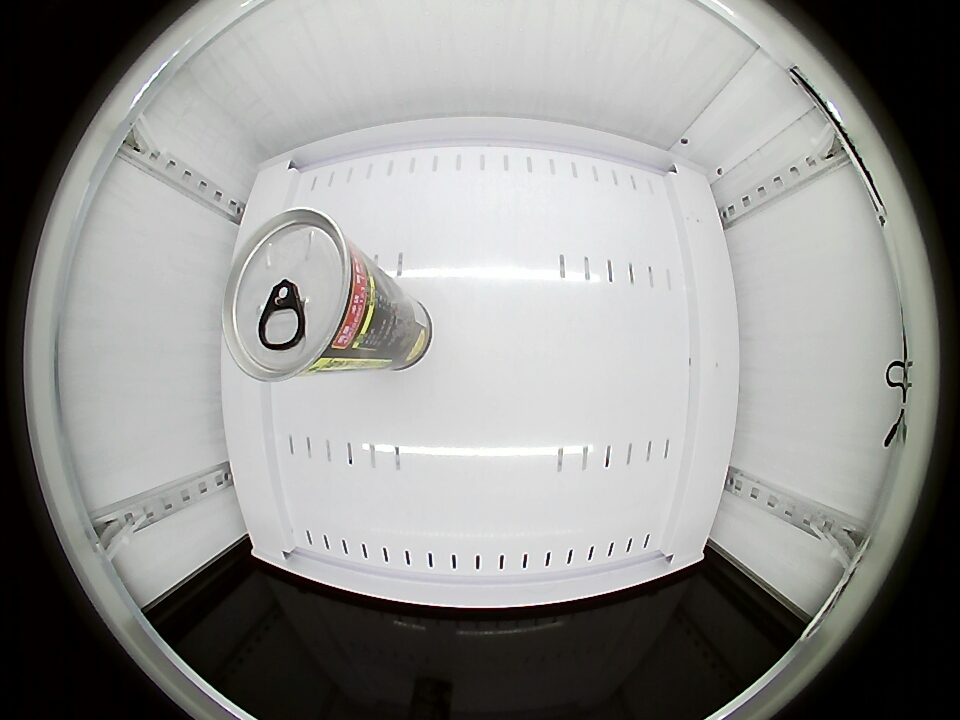yezhi: (222, 208, 379, 381)
